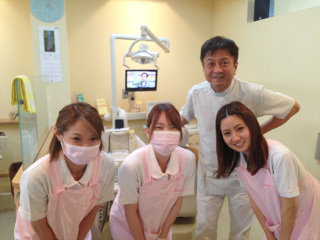mask: (63, 144, 100, 164), (150, 132, 180, 155)
